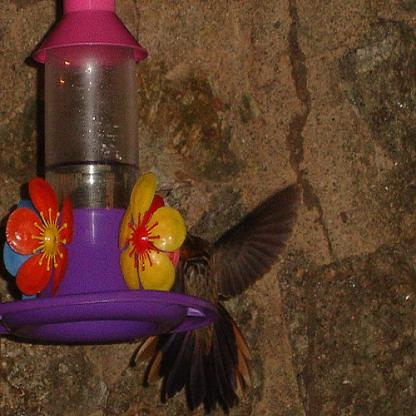bird: (127, 178, 306, 413)
